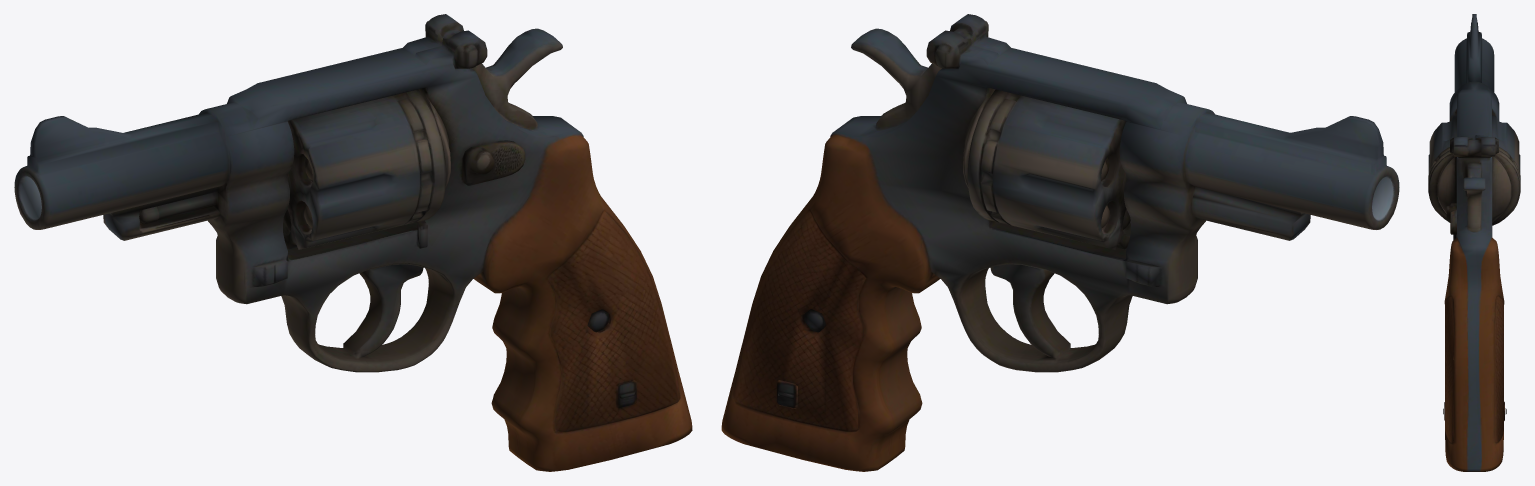
Rendered from colt_45_revolver_71083f71_v1.glb.
3 renders of one model, left to right at view 1: azimuth 30°, elevation 25°; view 2: azimuth 150°, elevation 25°; view 3: azimuth 270°, elevation 25°, orthographic. The views are drawn at different scales.
Parts seen in each view (by area): view 1: material; view 2: material; view 3: material.
Boxes of the visible parts, x1,y1,x2,y2 form: material: [14, 14, 692, 471]; material: [721, 14, 1399, 471]; material: [1428, 14, 1520, 471].
Bounding box in the file's own units: 1.9 × 1.28 × 0.3886.
1 material, 1 textured.
